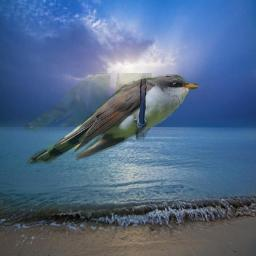Cuckoo: (24, 73, 198, 164)
